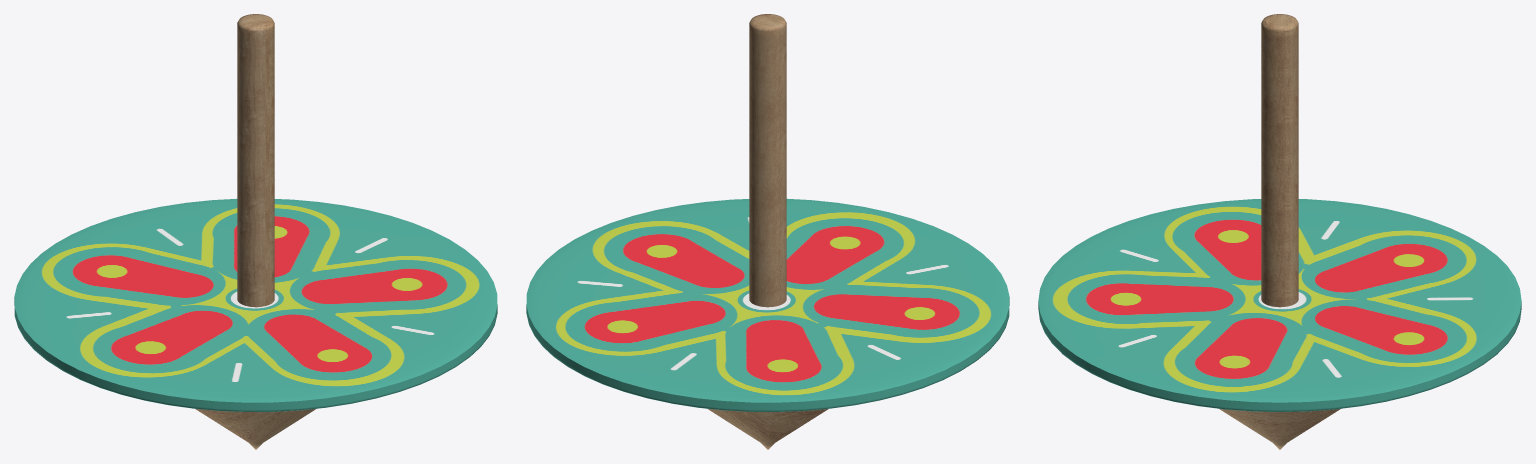
File: M_SpinningTop_12.fbx
3 renders of one model, left to right at view 1: azimuth 30°, elevation 25°; view 2: azimuth 150°, elevation 25°; view 3: azimuth 270°, elevation 25°, orthographic.
Parts seen in each view (by area): view 1: Circle029; view 2: Circle029; view 3: Circle029.
Part boxes in pixels (x1,y1,x2,y2): Circle029: (14, 14, 497, 449); Circle029: (526, 14, 1009, 449); Circle029: (1038, 14, 1521, 449).
Size of the model in its own units: 7.54 by 7.39 by 7.54.
2 materials, 2 textured.
